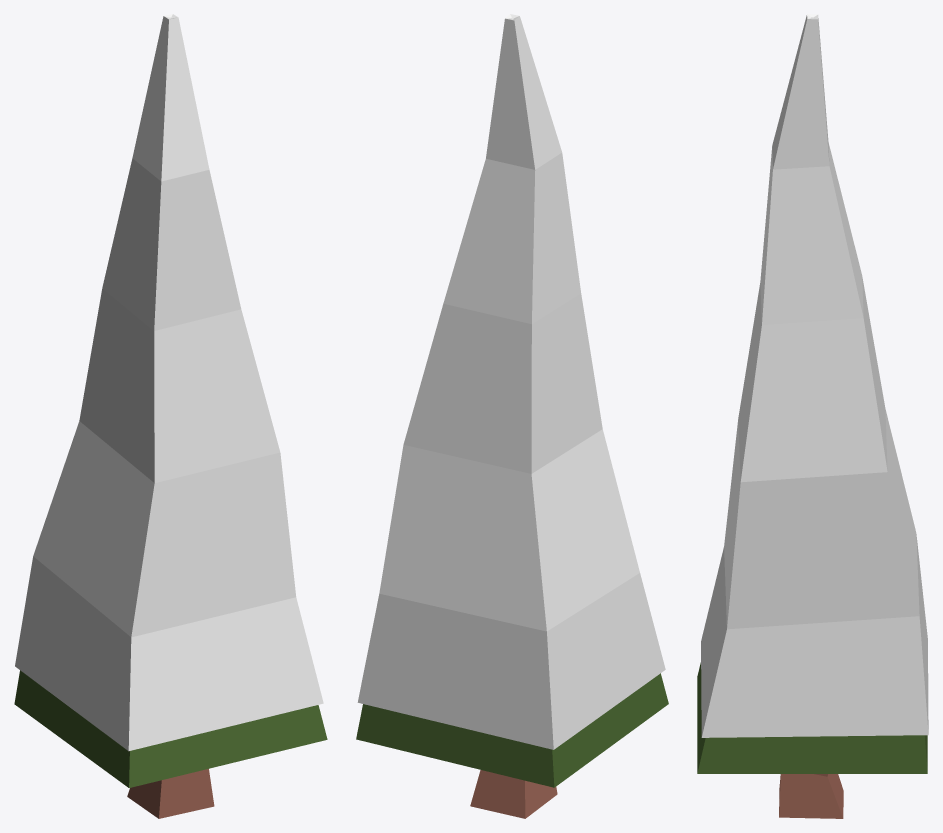
File: tree5.glb
The picture shows the model from 3 angles, left to right: view 1: azimuth 30°, elevation 25°; view 2: azimuth 150°, elevation 25°; view 3: azimuth 270°, elevation 25°; orthographic projection.
Visible parts, largest first — view 1: Tree 5_0.001; view 2: Tree 5_0.001; view 3: Tree 5_0.001.
Boxes of the visible parts, x1=… form: Tree 5_0.001: x1=14, y1=14, x2=327, y2=818; Tree 5_0.001: x1=356, y1=14, x2=668, y2=818; Tree 5_0.001: x1=697, y1=14, x2=928, y2=818.
Size of what is drawn, in the model's own units: 2.57 by 9.73 by 2.58.
Materials: 1 (1 with a texture image).
